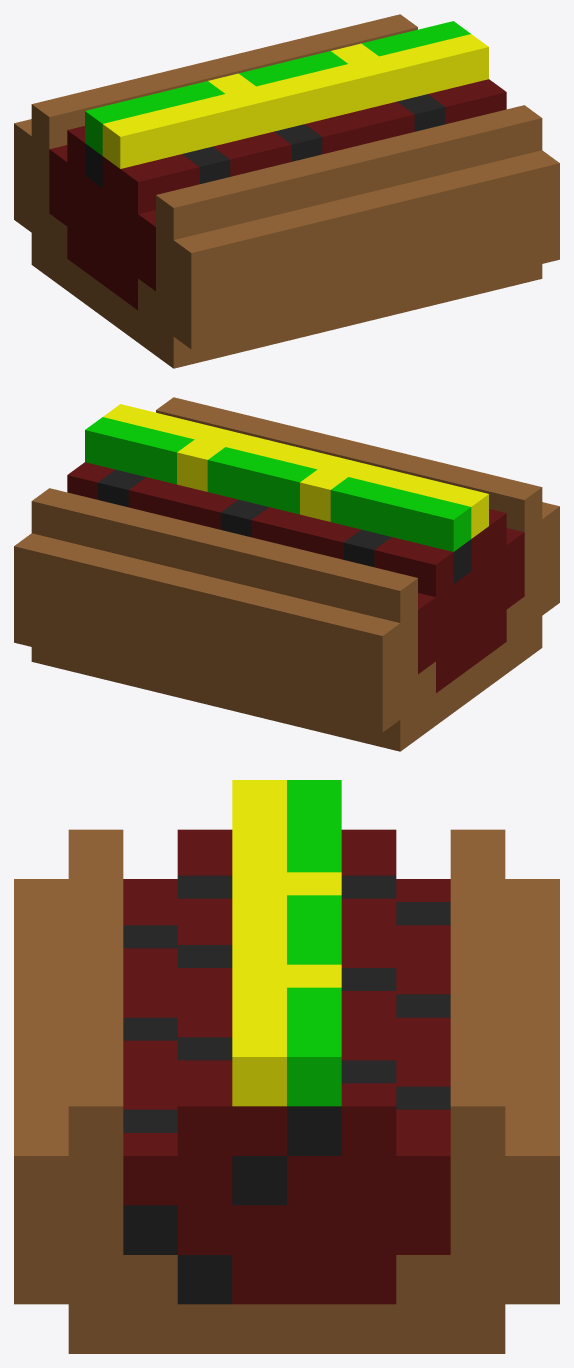
File: dogBunRelishMustard.obj
3 views of the same model, one above another, from view 1: azimuth 30°, elevation 25°; view 2: azimuth 150°, elevation 25°; view 3: azimuth 270°, elevation 25° (orthographic). The views are drawn at different scales.
Parts seen in each view (by area): view 1: dogBunRelishMustard; view 2: dogBunRelishMustard; view 3: dogBunRelishMustard.
Boxes of the visible parts, x1,y1,x2,y2 form: dogBunRelishMustard: (14,14,559,368); dogBunRelishMustard: (14,397,559,751); dogBunRelishMustard: (14,780,559,1353).
Bounding box in the file's own units: 12 × 6 × 10.
Materials: 1 (1 with a texture image).
